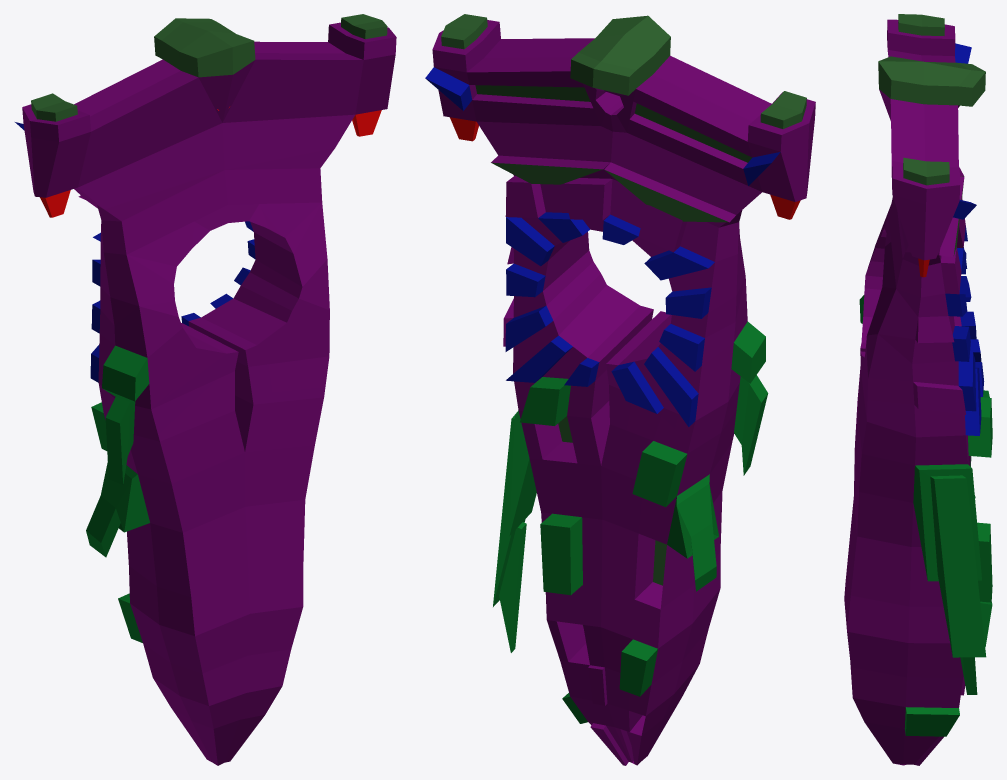
File: Gateuv.fbx
3 views of the same model, side by side, from view 1: azimuth 30°, elevation 25°; view 2: azimuth 150°, elevation 25°; view 3: azimuth 270°, elevation 25° (orthographic). The views are drawn at different scales.
Parts seen in each view (by area): view 1: Plane004.001; view 2: Plane004.001; view 3: Plane004.001.
Boxes of the visible parts, x1,y1,x2,y2 form: Plane004.001: (15, 14, 396, 765); Plane004.001: (425, 14, 815, 765); Plane004.001: (844, 14, 992, 765).
Size of the model in its own units: 106 by 204 by 38.93.
